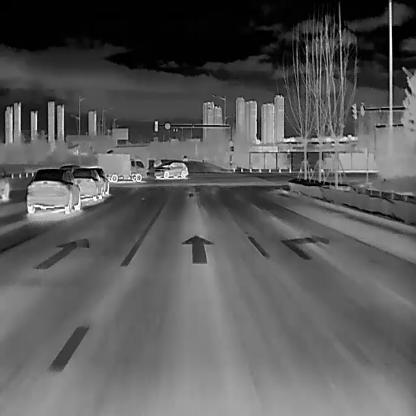car: (26, 167, 80, 213), (72, 166, 102, 200), (153, 159, 188, 179), (182, 154, 187, 161)
truck: (96, 151, 146, 182), (107, 142, 150, 165)
